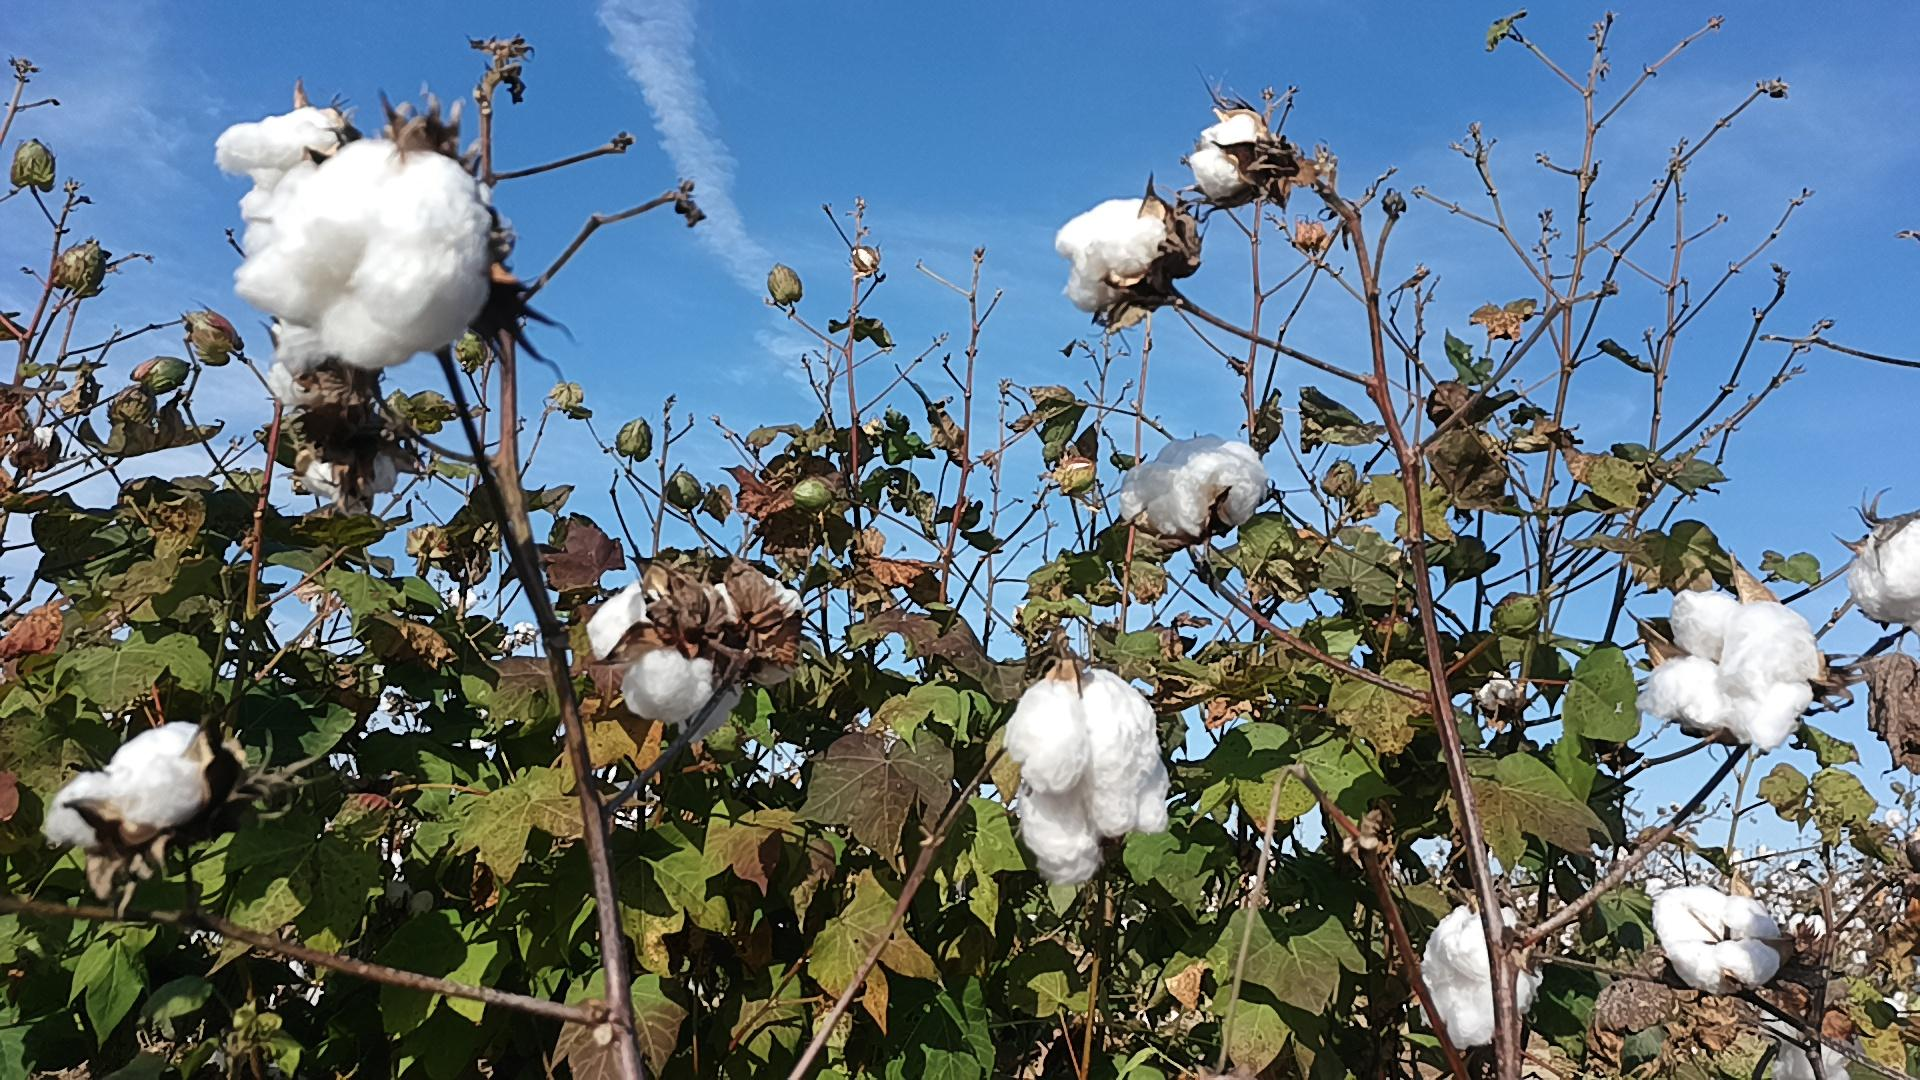cotton_ready: (236, 141, 491, 365), (1011, 666, 1166, 889), (588, 571, 803, 727), (1643, 588, 1820, 753), (46, 720, 215, 851), (218, 103, 343, 249), (1422, 906, 1534, 1051), (1118, 435, 1269, 539), (1654, 886, 1784, 990), (1058, 198, 1180, 305), (1847, 516, 1920, 626), (265, 327, 336, 423), (1188, 113, 1269, 198), (299, 443, 401, 492), (1759, 1026, 1847, 1080)
